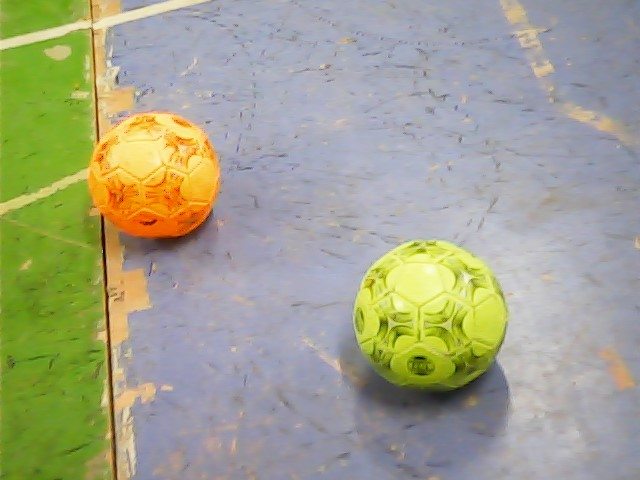Green_ball: (350, 231, 514, 394)
Orange_ball: (86, 108, 225, 242)
